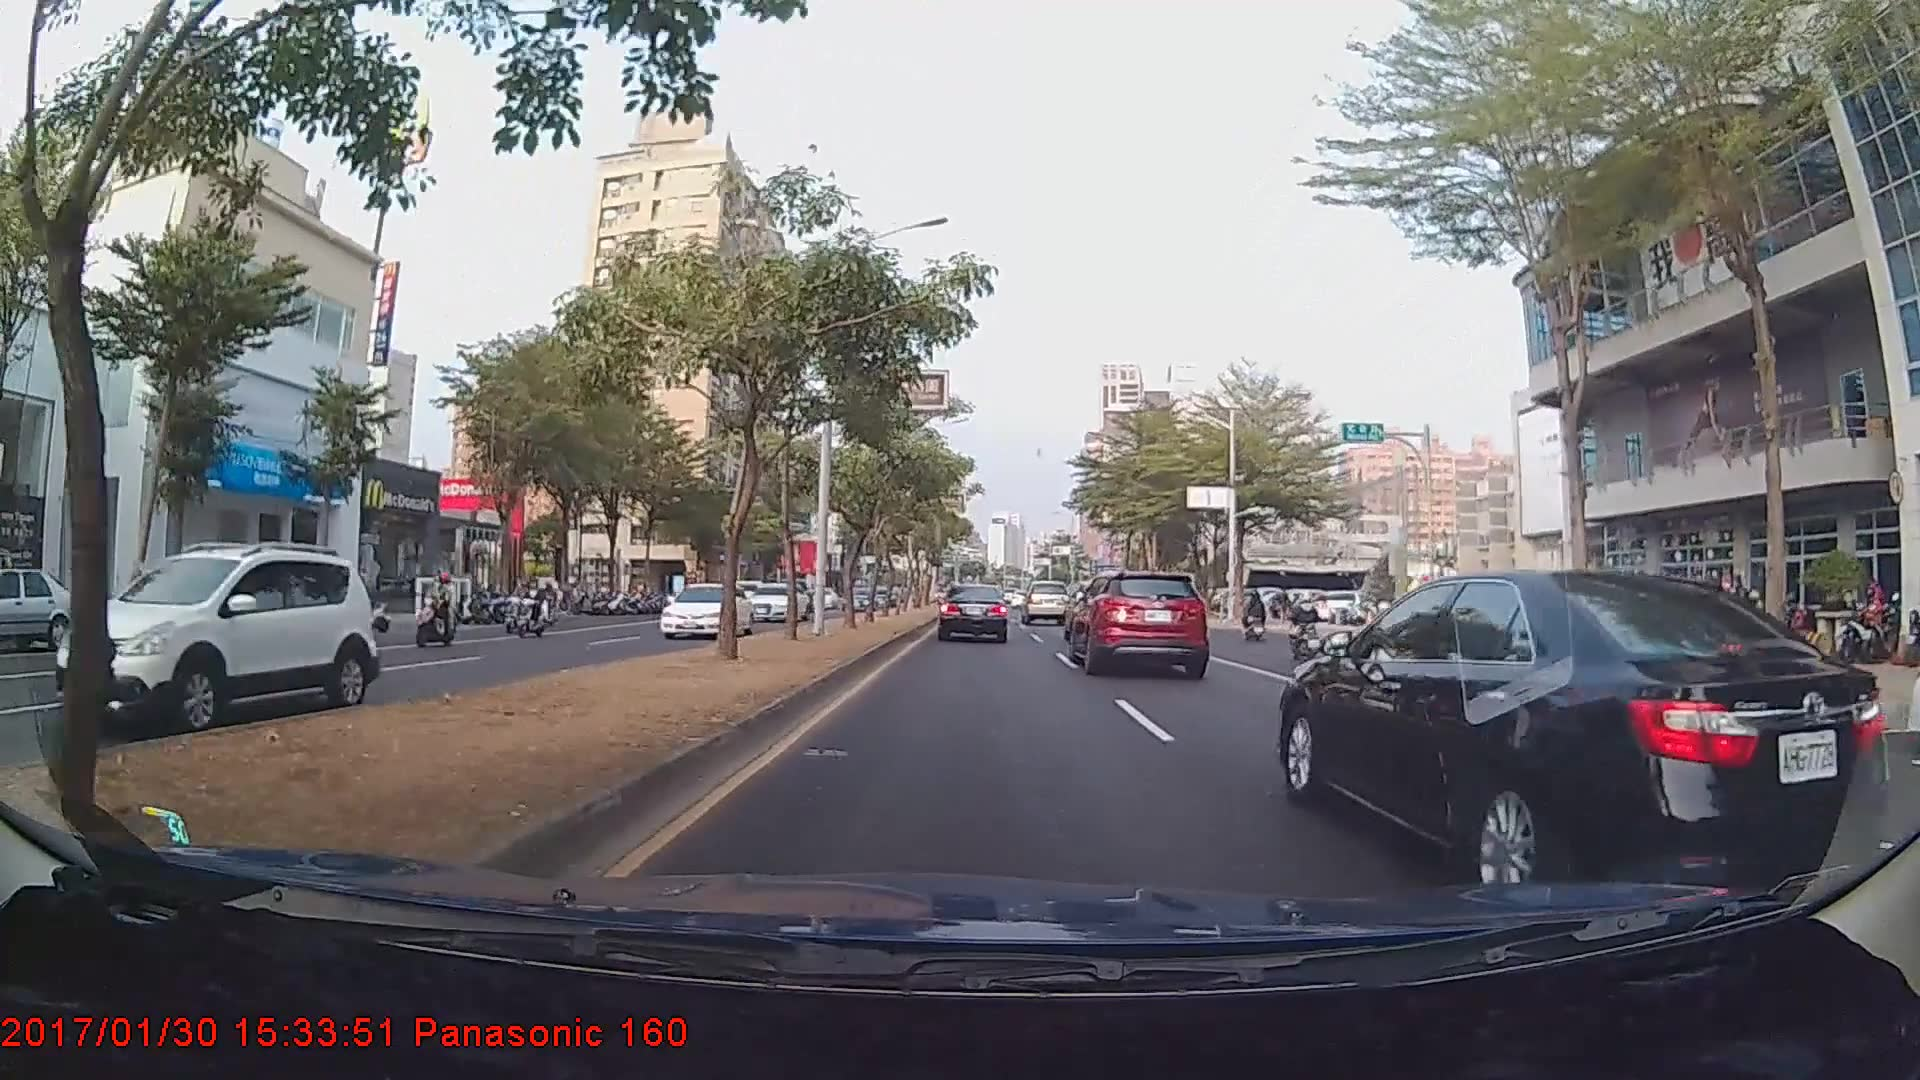rider: (404, 568, 465, 650), (1283, 586, 1326, 666)
vehicle: (1273, 559, 1852, 880), (52, 544, 380, 731), (1066, 569, 1208, 675), (0, 568, 90, 655), (656, 579, 754, 638), (938, 584, 1009, 642), (741, 577, 811, 624), (1020, 579, 1071, 625)
